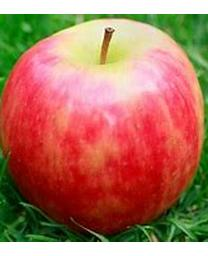apple: (0, 18, 205, 233)
